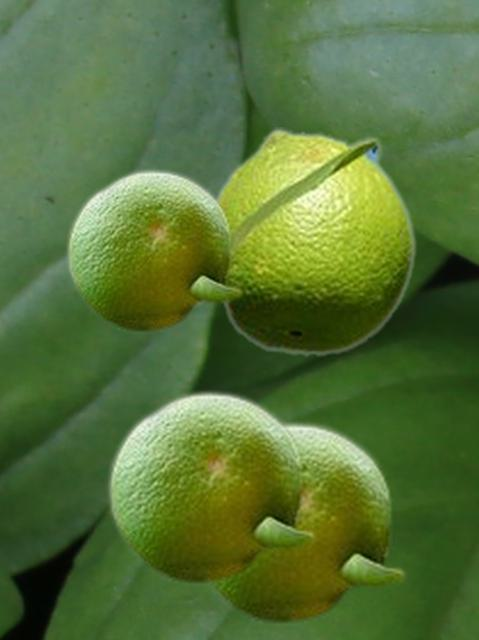dalandan: (196, 127, 417, 357), (105, 387, 318, 584), (205, 418, 408, 624), (64, 166, 244, 332)
